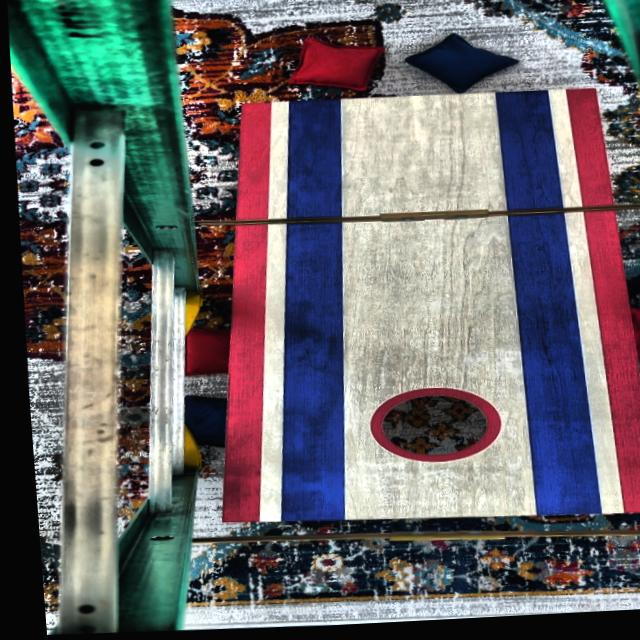blue-bean-bag: (401, 33, 518, 100), (175, 395, 221, 450), (633, 386, 640, 441)
board: (232, 92, 614, 528)
hole: (359, 388, 497, 469)
red-bean-bag: (282, 34, 382, 99), (176, 327, 226, 378), (623, 312, 640, 373)
